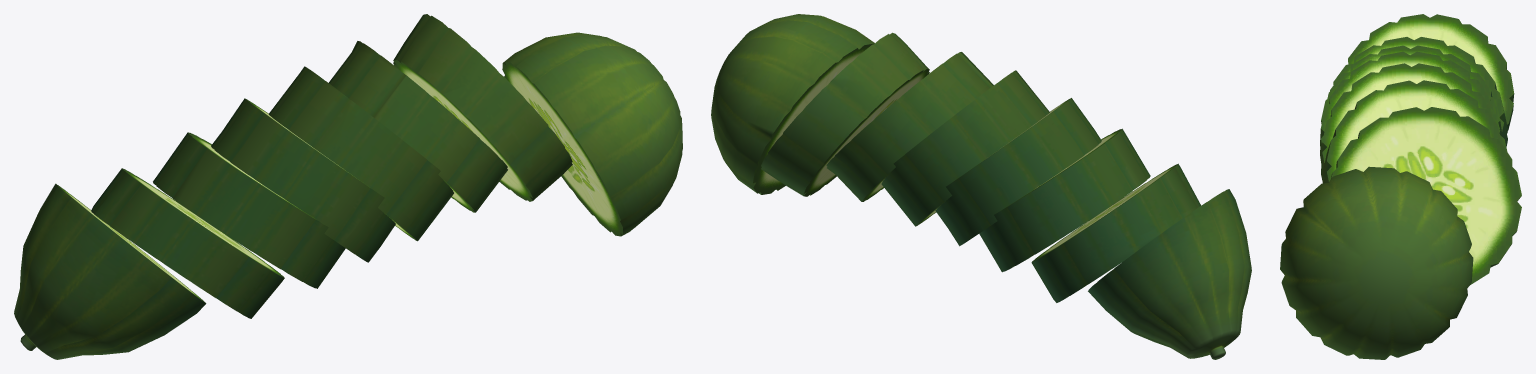
File: t_ingredients_cucumber_trimming.fbx
The picture shows the model from 3 angles, left to right: view 1: azimuth 30°, elevation 25°; view 2: azimuth 150°, elevation 25°; view 3: azimuth 270°, elevation 25°; orthographic projection. The views are drawn at different scales.
Visible parts, largest first — view 1: m_ingredients_cucumber_sliced_02; view 2: m_ingredients_cucumber_sliced_02; view 3: m_ingredients_cucumber_sliced_02.
Boxes of the visible parts, box(x1,y1,x2,y2) form: m_ingredients_cucumber_sliced_02: box(14, 14, 682, 359); m_ingredients_cucumber_sliced_02: box(711, 14, 1251, 359); m_ingredients_cucumber_sliced_02: box(1280, 14, 1521, 359).
Size of the model in its own units: 9.93 by 3.88 by 3.75.
Materials: 1 (1 with a texture image).
